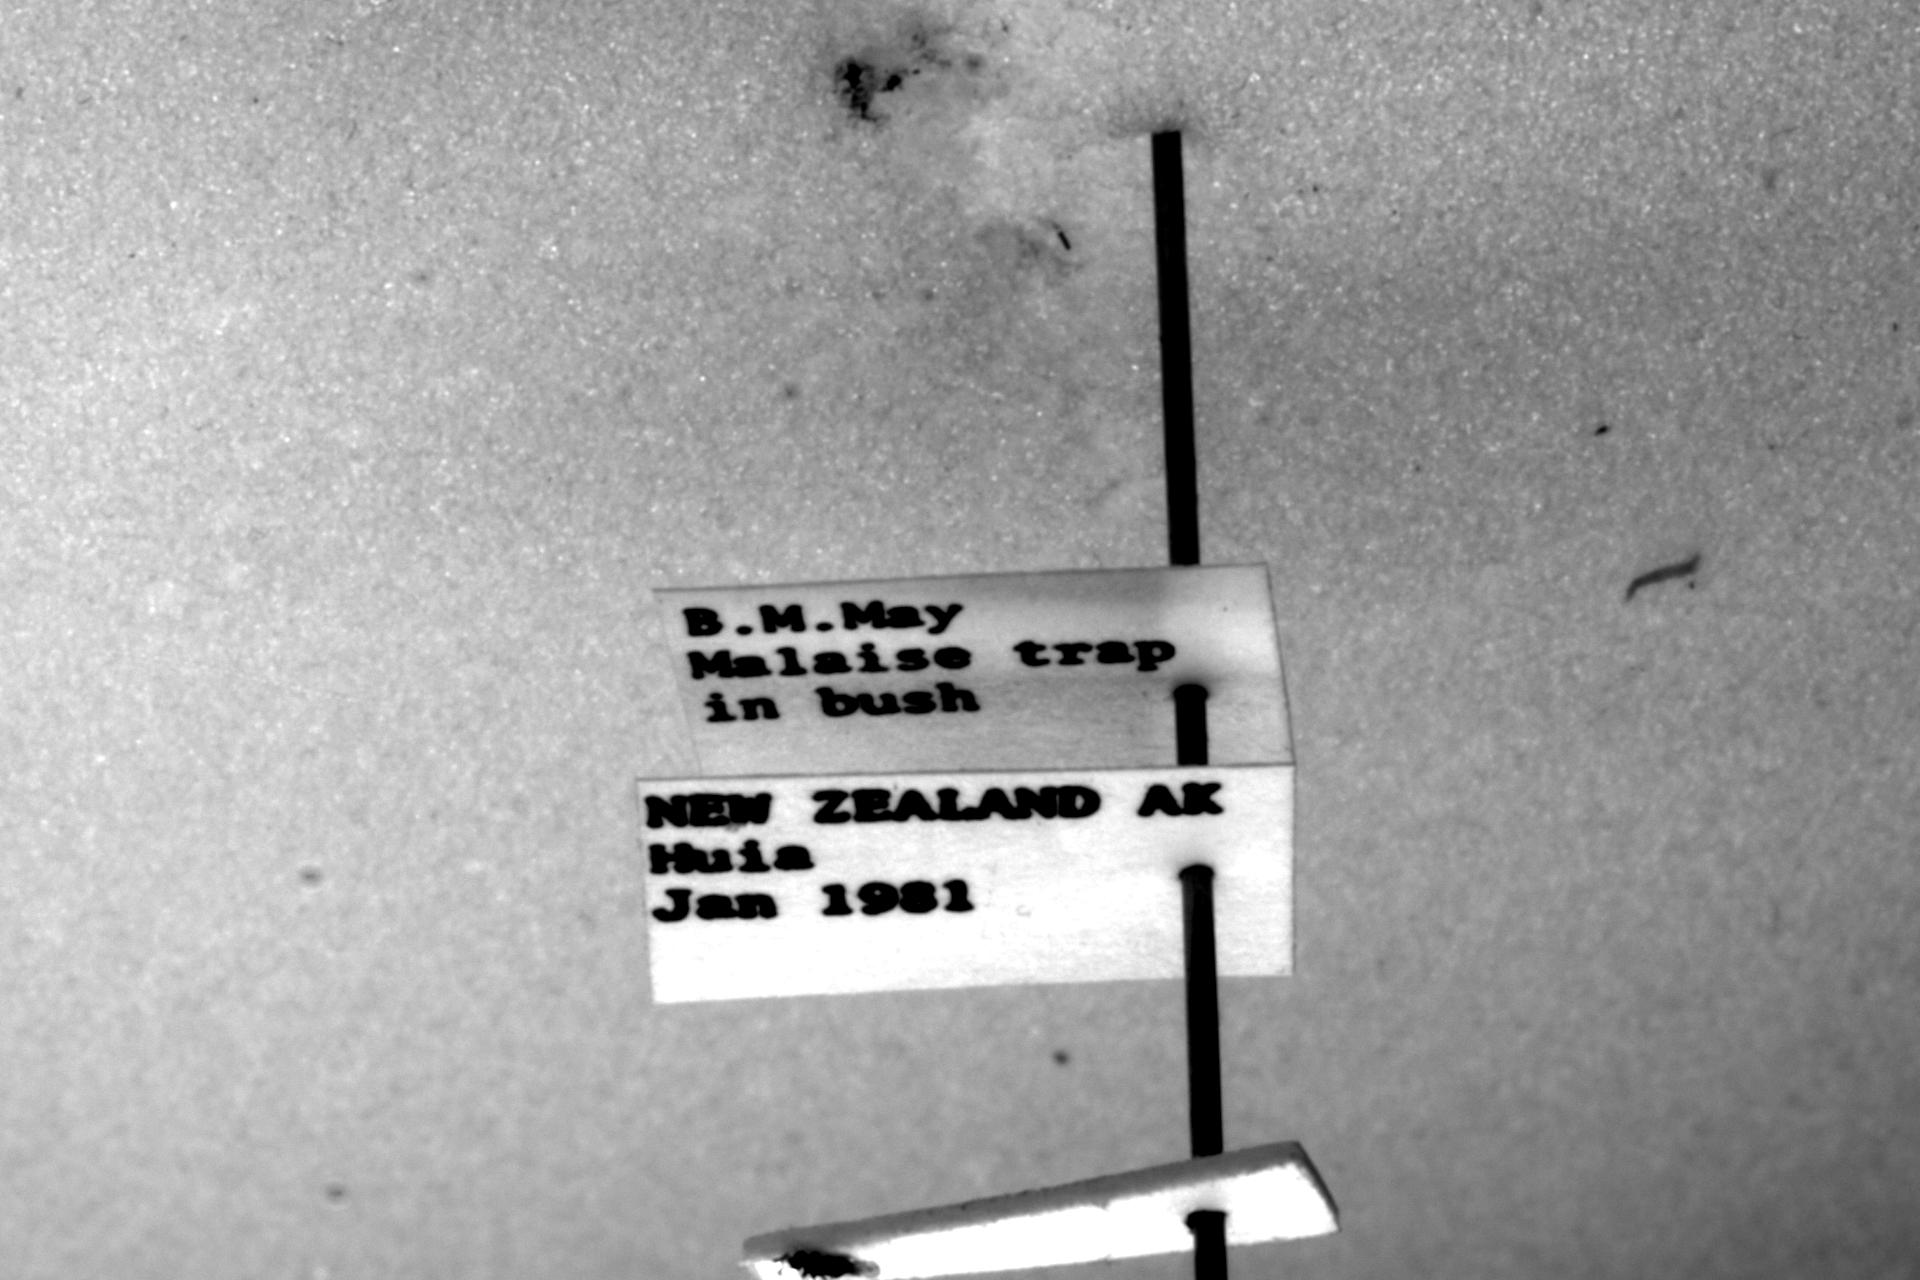typed_label: (638, 765, 1294, 1001), (656, 566, 1294, 776)
